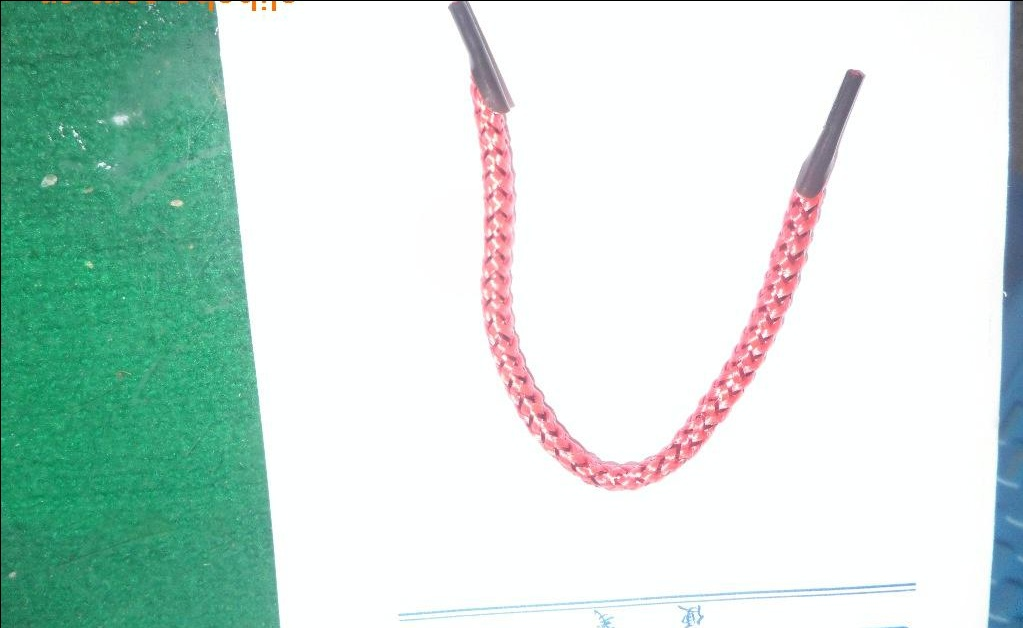9/可回收垃圾/绳子: (450, 2, 865, 493)
